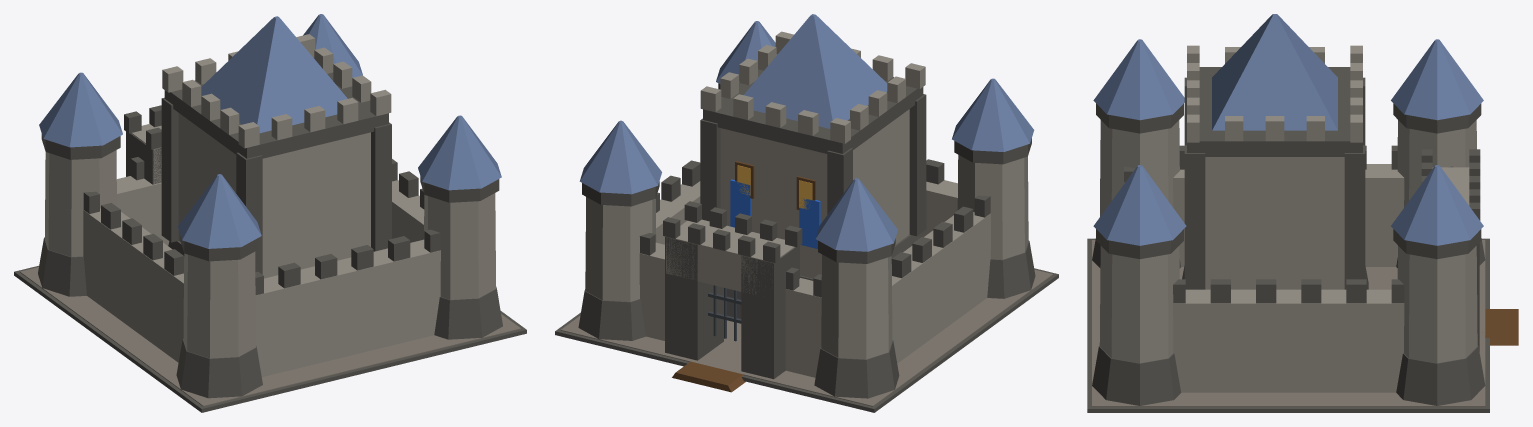
Rendered from Castle.obj.
The picture shows the model from 3 angles, left to right: view 1: azimuth 30°, elevation 25°; view 2: azimuth 150°, elevation 25°; view 3: azimuth 270°, elevation 25°; orthographic projection. The views are drawn at different scales.
Visible parts, largest first — view 1: Castle_stone, Castle_dark_stone, Castle_roof_team, Castle_cobble; view 2: Castle_stone, Castle_dark_stone, Castle_roof_team, Castle_cobble, Castle_timber, Castle_banner_team, Castle_iron, Castle_window_glow; view 3: Castle_stone, Castle_dark_stone, Castle_roof_team, Castle_cobble, Castle_timber.
Part boxes in pixels (<box>): Castle_stone: <box>45,34,495,376</box>; Castle_dark_stone: <box>14,72,526,412</box>; Castle_roof_team: <box>39,14,501,248</box>; Castle_cobble: <box>20,267,520,406</box>; Castle_stone: <box>585,31,1028,377</box>; Castle_dark_stone: <box>555,69,1058,412</box>; Castle_roof_team: <box>579,14,1034,251</box>; Castle_cobble: <box>561,269,1052,406</box>; Castle_timber: <box>672,161,815,392</box>; Castle_banner_team: <box>730,179,820,248</box>; Castle_iron: <box>708,285,741,341</box>; Castle_window_glow: <box>737,165,812,209</box>; Castle_stone: <box>1099,45,1477,392</box>; Castle_dark_stone: <box>1087,67,1489,412</box>; Castle_roof_team: <box>1093,14,1483,245</box>; Castle_cobble: <box>1092,240,1485,406</box>; Castle_timber: <box>1482,309,1518,345</box>.
Bounding box in the file's own units: 8.8 × 7.59 × 9.43.
